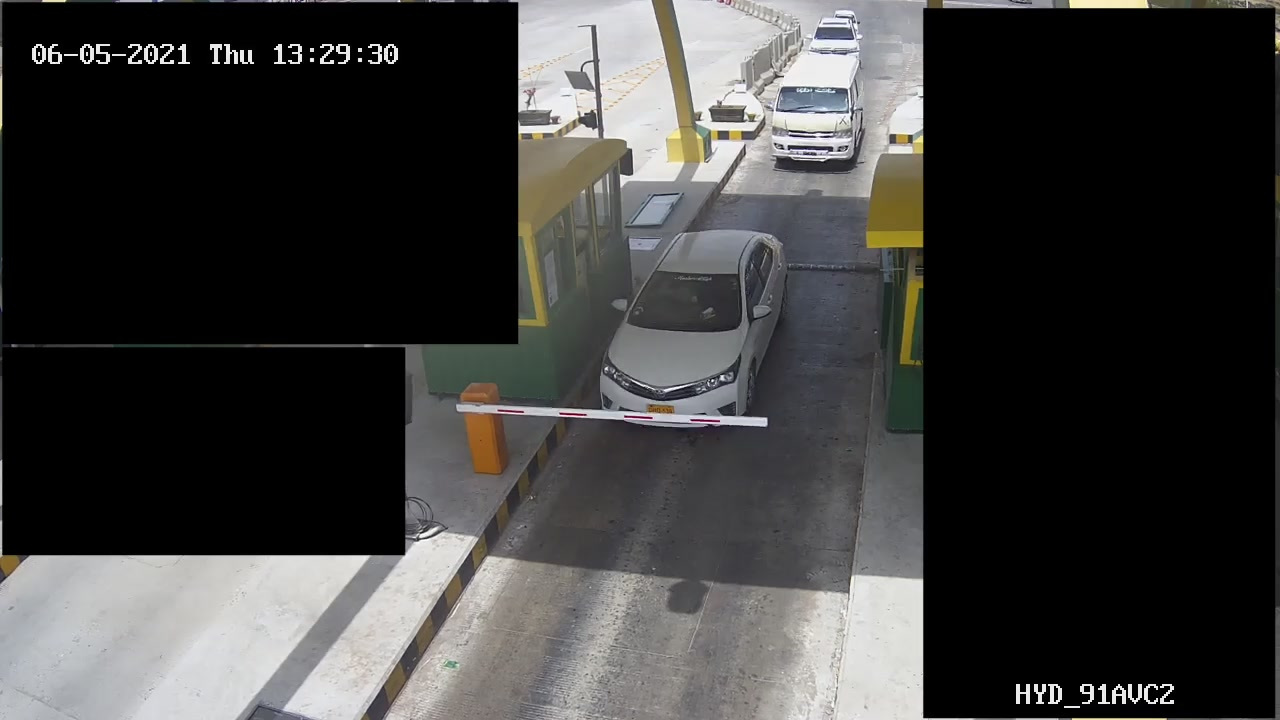F2: (766, 46, 867, 170)
